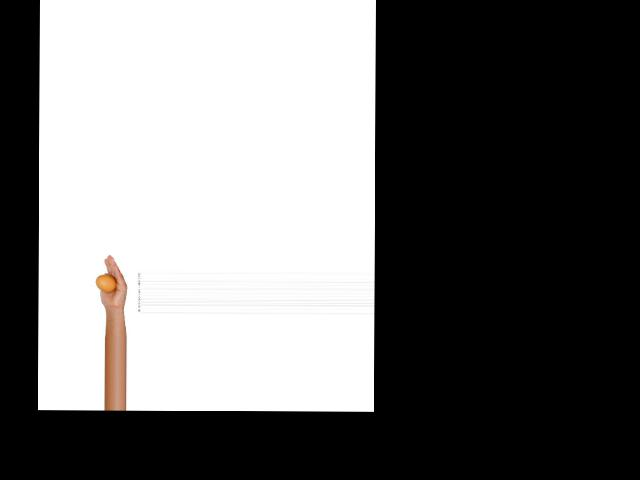egg: (95, 274, 117, 292)
